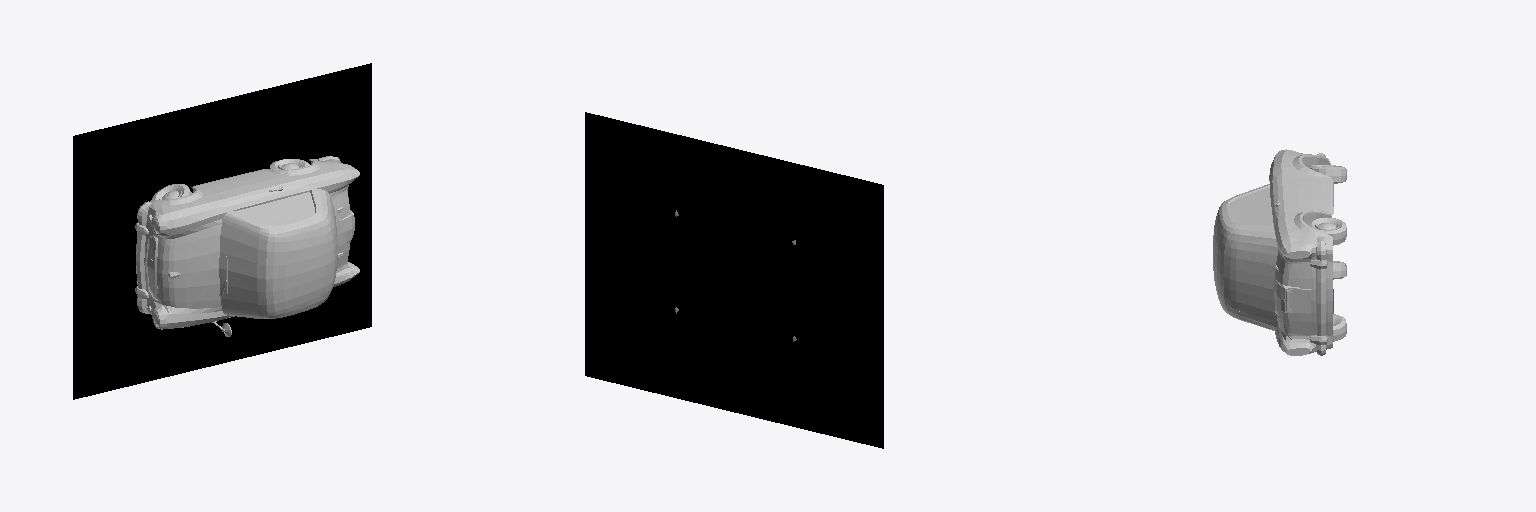
File: Pony_cartoon.obj
3 renders of one model, left to right at view 1: azimuth 30°, elevation 25°; view 2: azimuth 150°, elevation 25°; view 3: azimuth 270°, elevation 25°, orthographic.
Parts seen in each view (by area): view 1: Pony_cartoon; view 2: Pony_cartoon; view 3: Pony_cartoon.
Boxes of the visible parts, <box> form: Pony_cartoon: <box>73,63,371,399</box>; Pony_cartoon: <box>585,112,883,448</box>; Pony_cartoon: <box>1213,149,1346,355</box>.
Size of the model in its own units: 481 by 406 by 187.